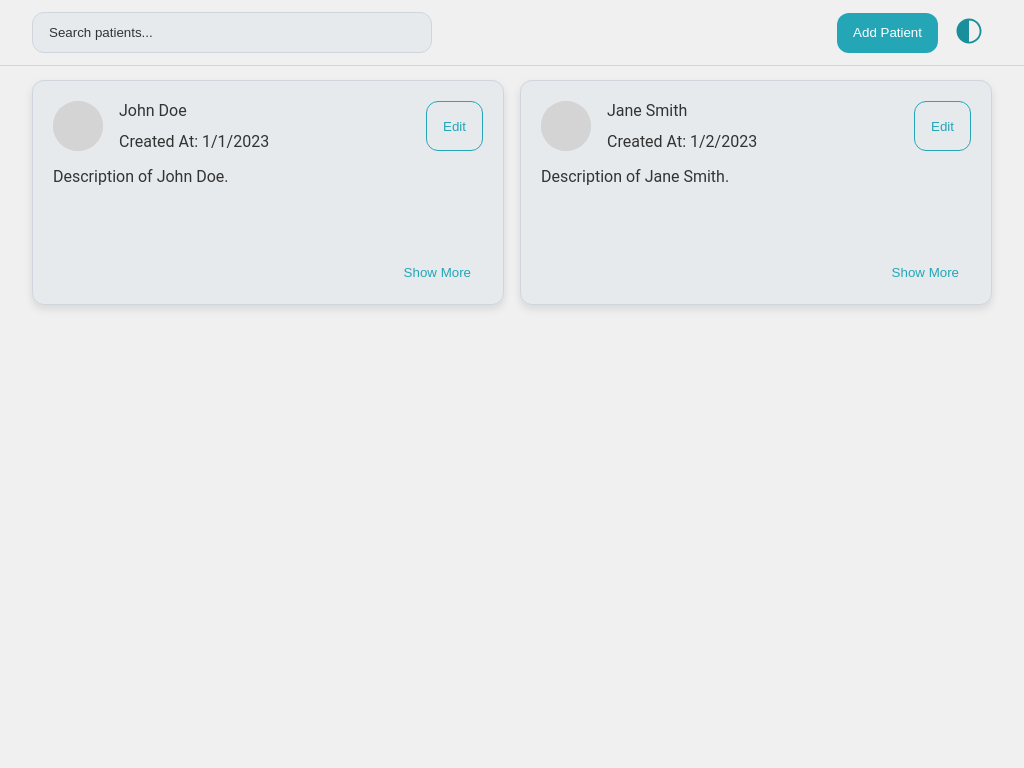
Test: Patient Management › should allow adding a new patient
The width and height of the screenshot is (1024, 768).
Click the button "Add Patient" at (888, 33), box x1=837 y1=13 x2=938 y2=53
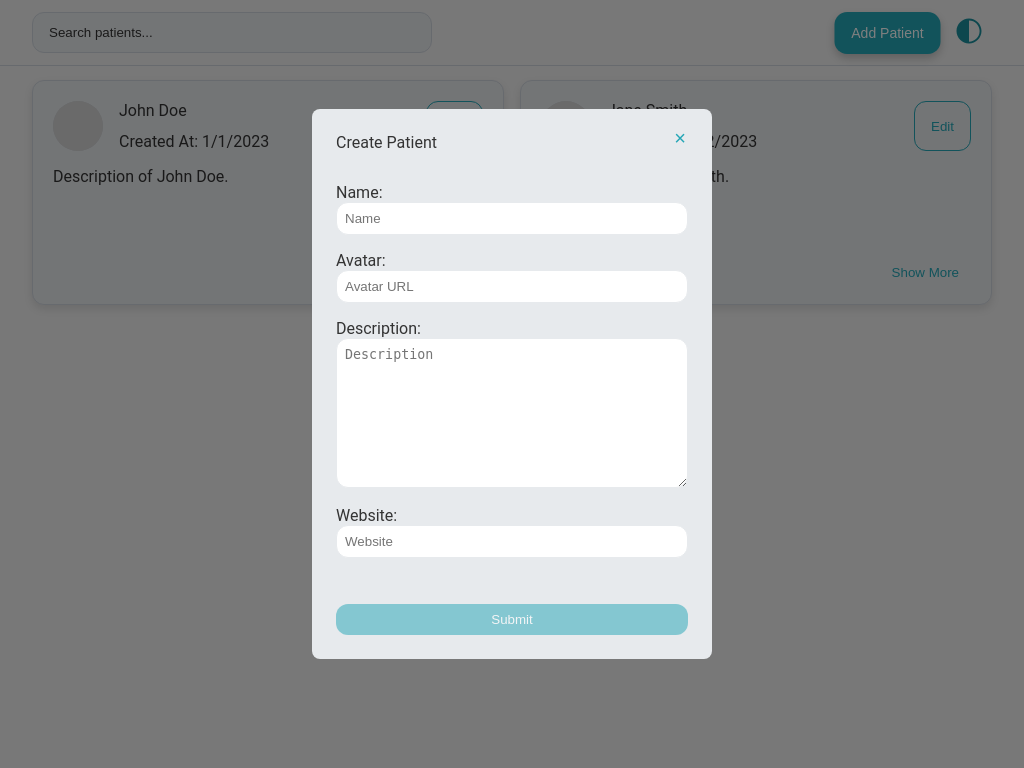
Type "New Patient" into the field named "name" at (512, 219), box x1=336 y1=202 x2=688 y2=235
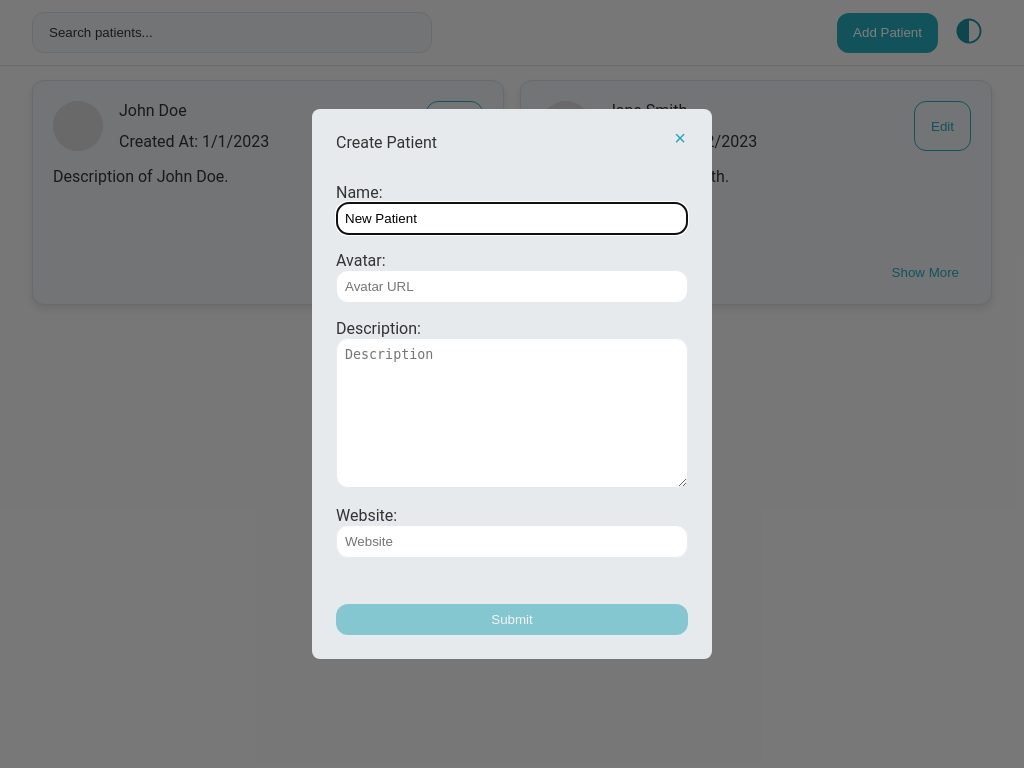
Type "https://example.com/avatar-new.jpg" into the field named "avatar" at (512, 287), box x1=336 y1=270 x2=688 y2=303
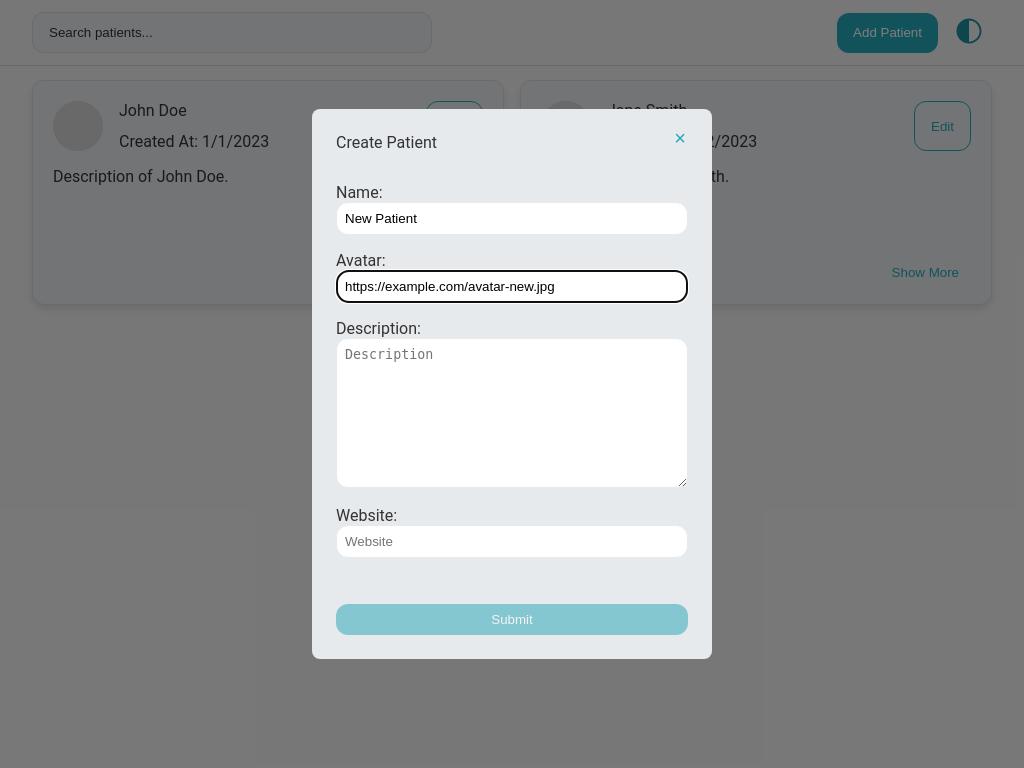
Type "New patient description" into the text box named "description" at (512, 413), box x1=336 y1=338 x2=688 y2=488
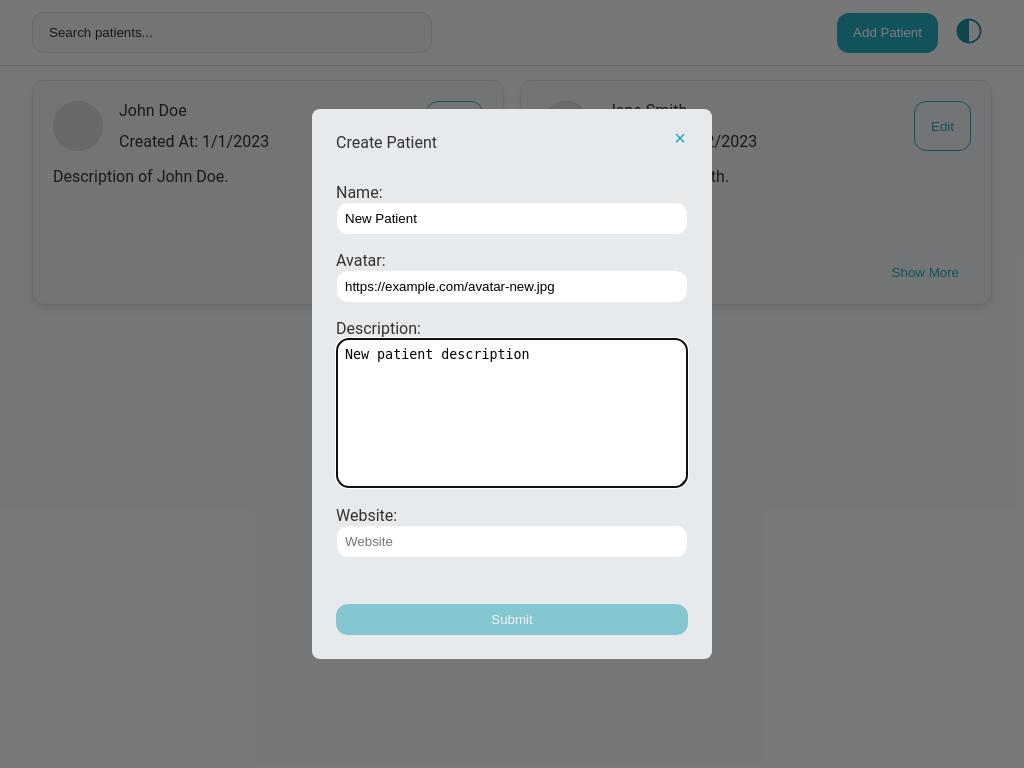
Type "https://newpatient.com" into the field named "website" at (512, 542), box x1=336 y1=525 x2=688 y2=558
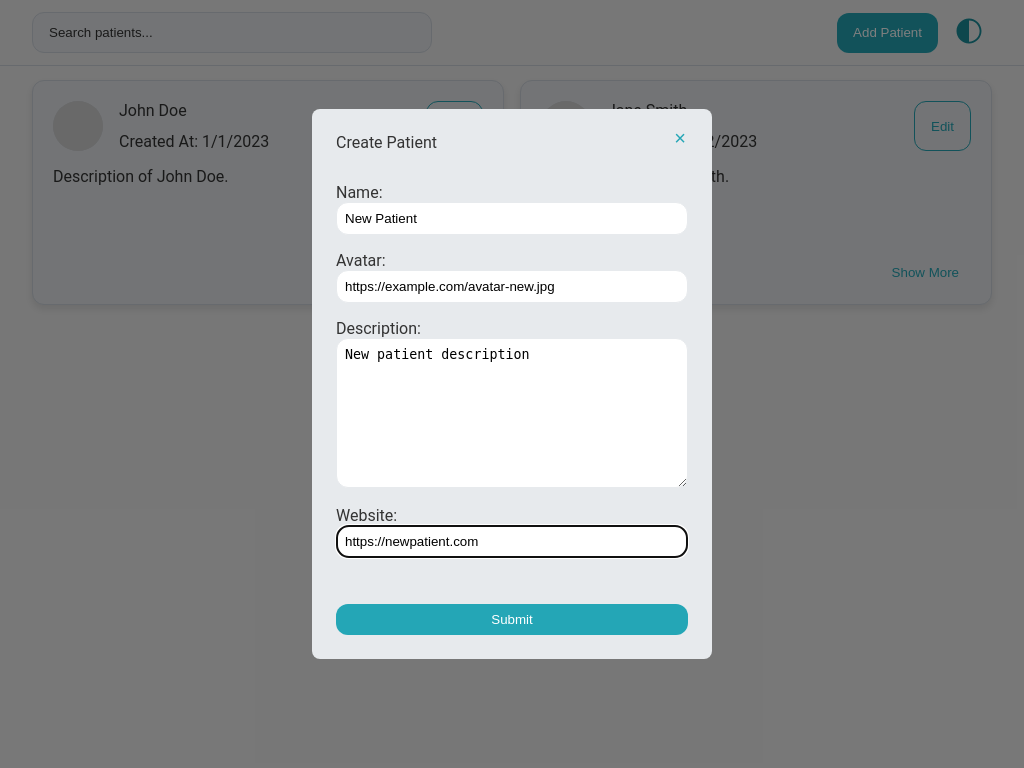
Click the submit button at (512, 620), box x1=336 y1=604 x2=688 y2=635
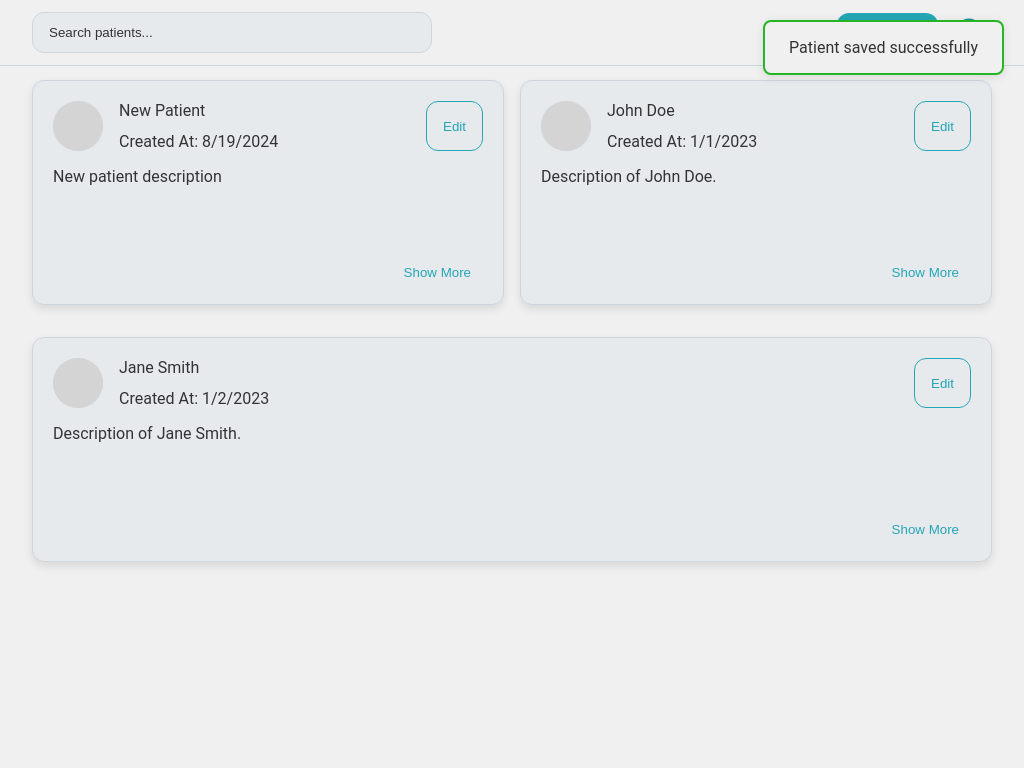
Result: the text "New Patient" is shown at x1=119 y1=101 x2=205 y2=120
